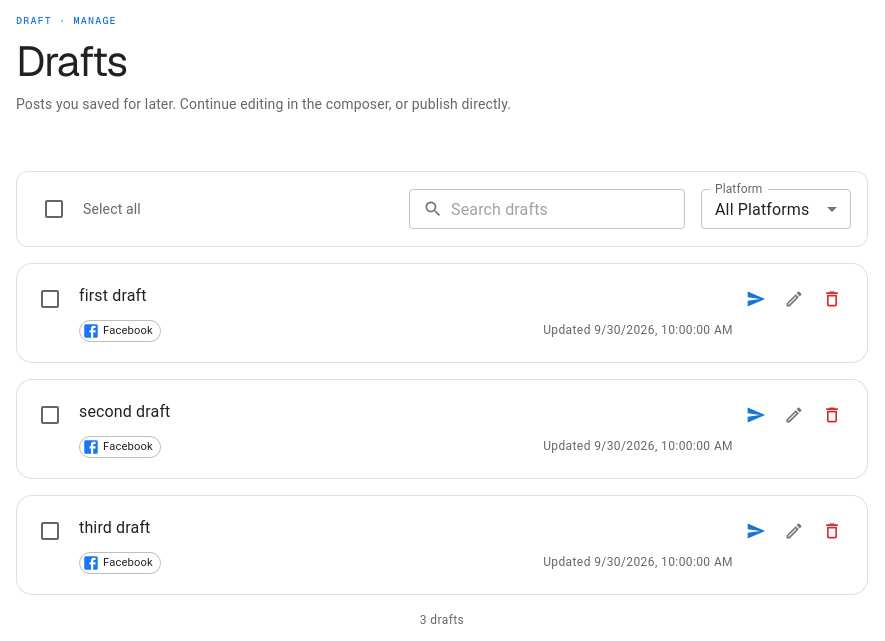
Scenario: Drafts page › select all selects every draft on the page
Expected: the text "first draft" is shown, [79,286,147,305]
Click the checkbox named "Select all drafts on this page" at (54, 209), box [42,197,66,221]
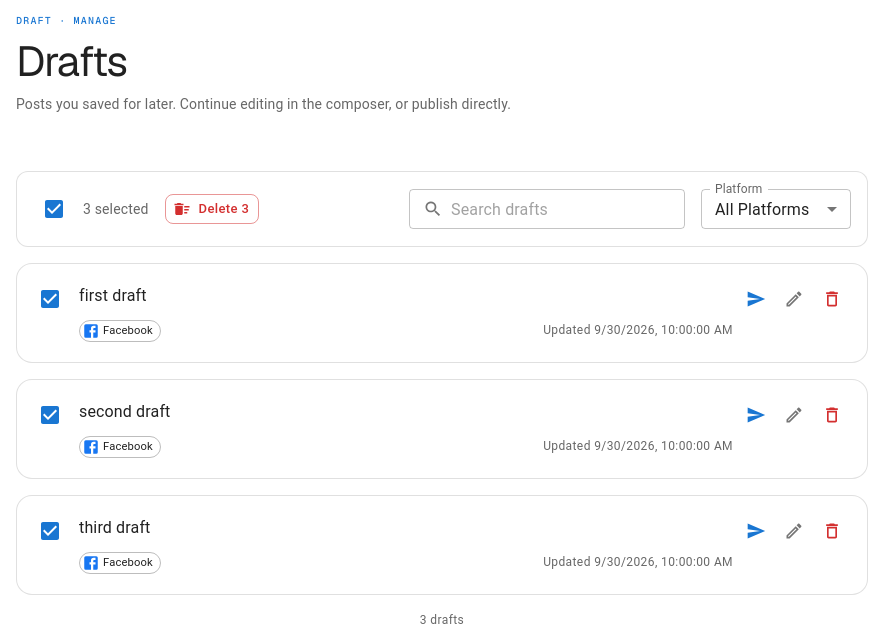
Expected: the text "3 selected" is shown, [83,199,148,219]
Expected: the button "Delete 3" is shown, [164,194,259,224]
